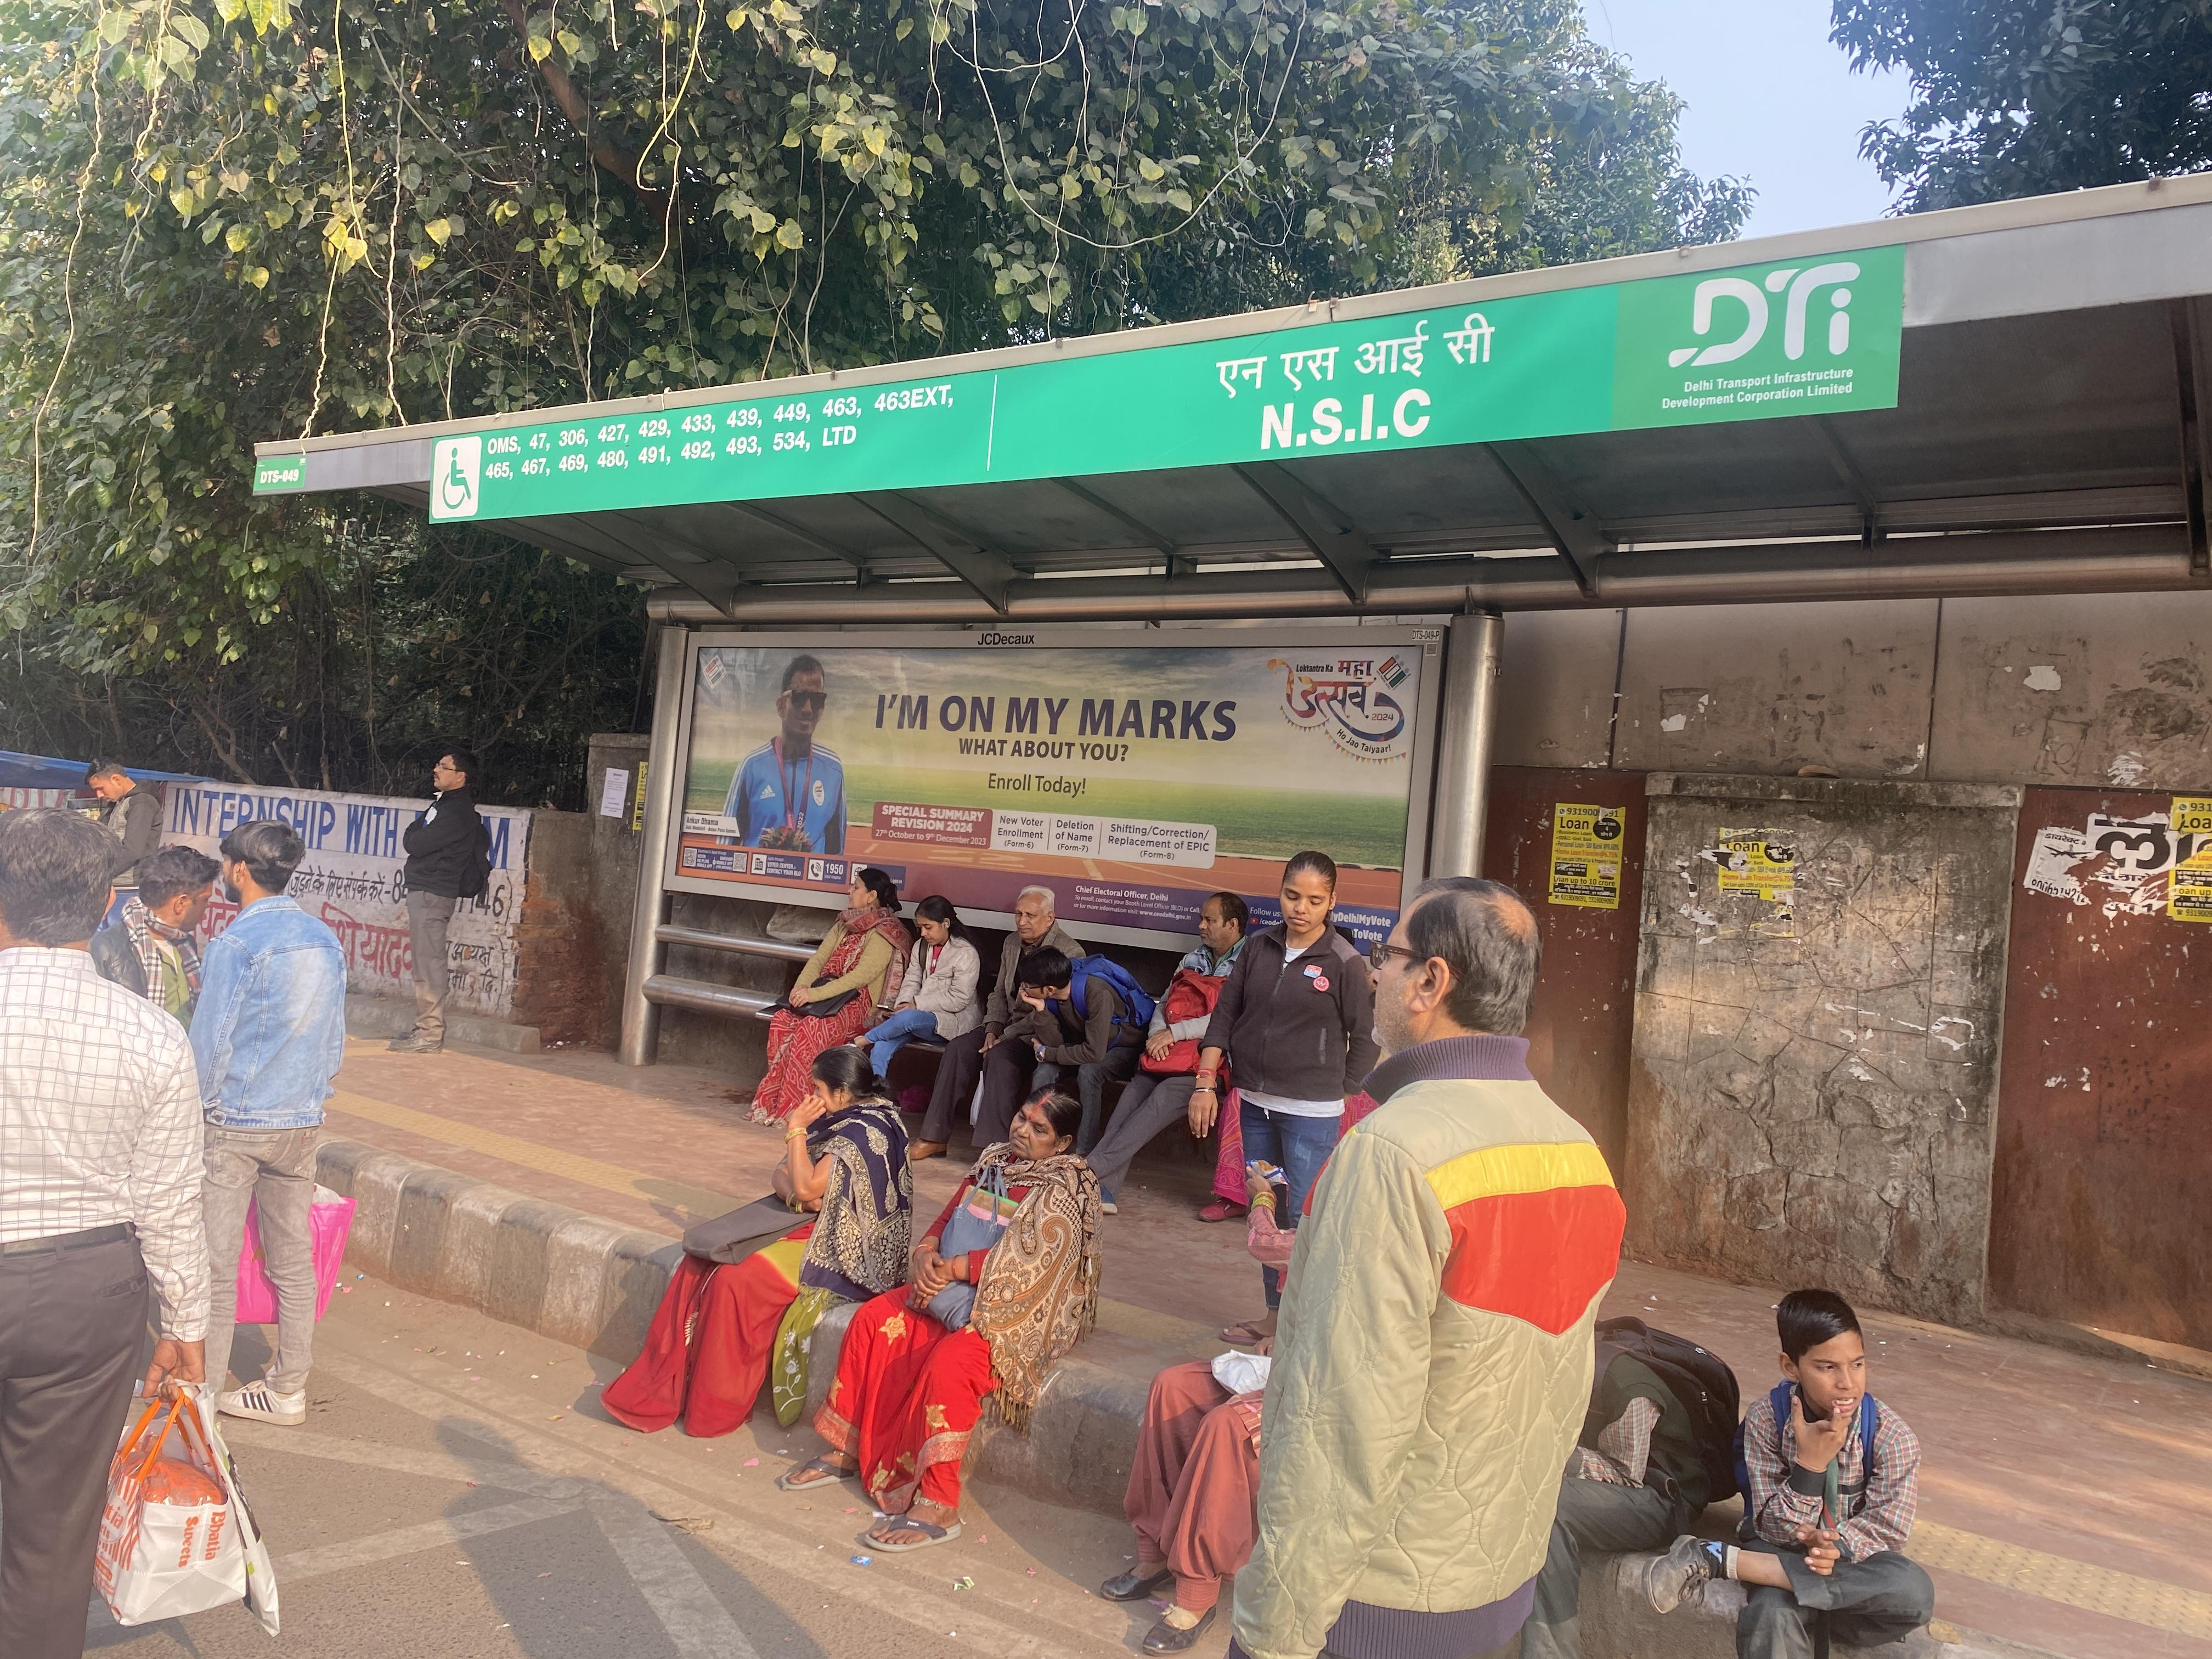Bus-stop-board: (401, 247, 1926, 559)
